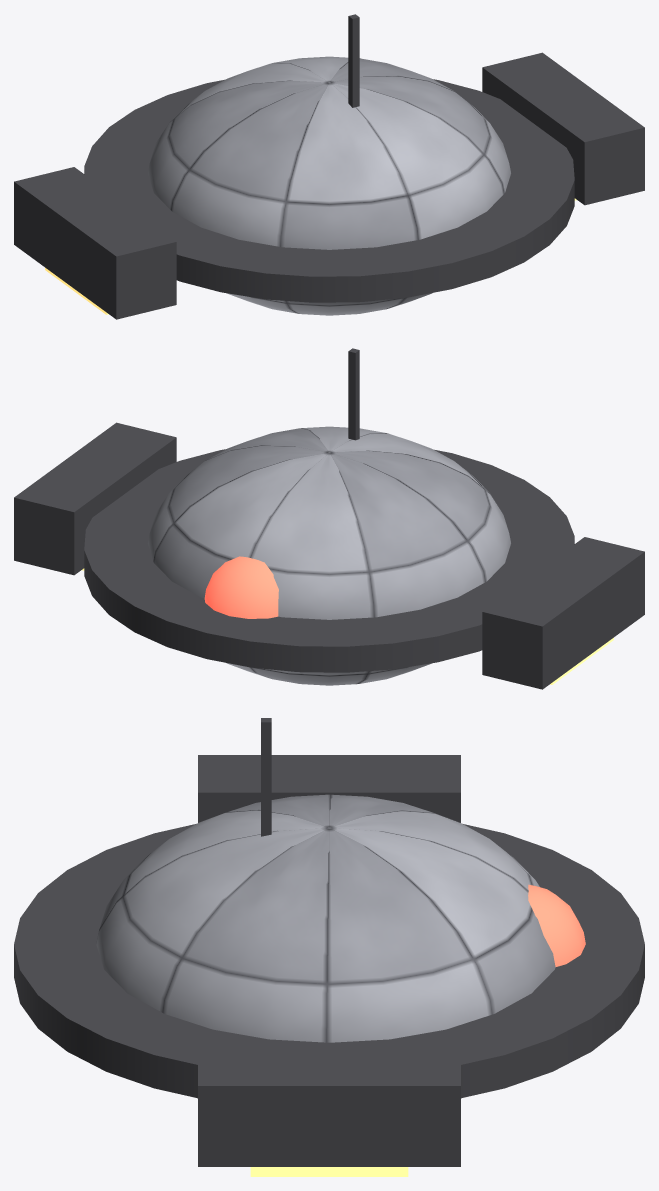
File: drone.glb
3 views of the same model, one above another, from view 1: azimuth 30°, elevation 25°; view 2: azimuth 150°, elevation 25°; view 3: azimuth 270°, elevation 25° (orthographic). The views are drawn at different scales.
Visible parts, largest first — view 1: Body, Rim, Pod (×2), Antenna; view 2: Body, Rim, Pod (×2), Eye, Antenna; view 3: Body, Rim, Pod (×2), Eye, Thruster, Antenna.
Part boxes in pixels (x1,y1,x2,y2): Body: (148, 56, 510, 315); Rim: (84, 79, 574, 302); Pod (×2): (14, 52, 644, 319); Antenna: (348, 14, 359, 107); Body: (148, 426, 510, 685); Rim: (84, 449, 574, 672); Pod (×2): (14, 422, 644, 689); Eye: (204, 556, 278, 618); Antenna: (348, 348, 359, 440); Body: (96, 794, 555, 1098); Rim: (14, 824, 644, 1098); Pod (×2): (198, 755, 460, 1166); Eye: (528, 884, 585, 966); Thruster: (250, 1167, 408, 1176); Antenna: (261, 718, 271, 836).
Size of the model in its own units: 1.49 by 0.784 by 1.2.
Materials: 4 (1 with a texture image).
